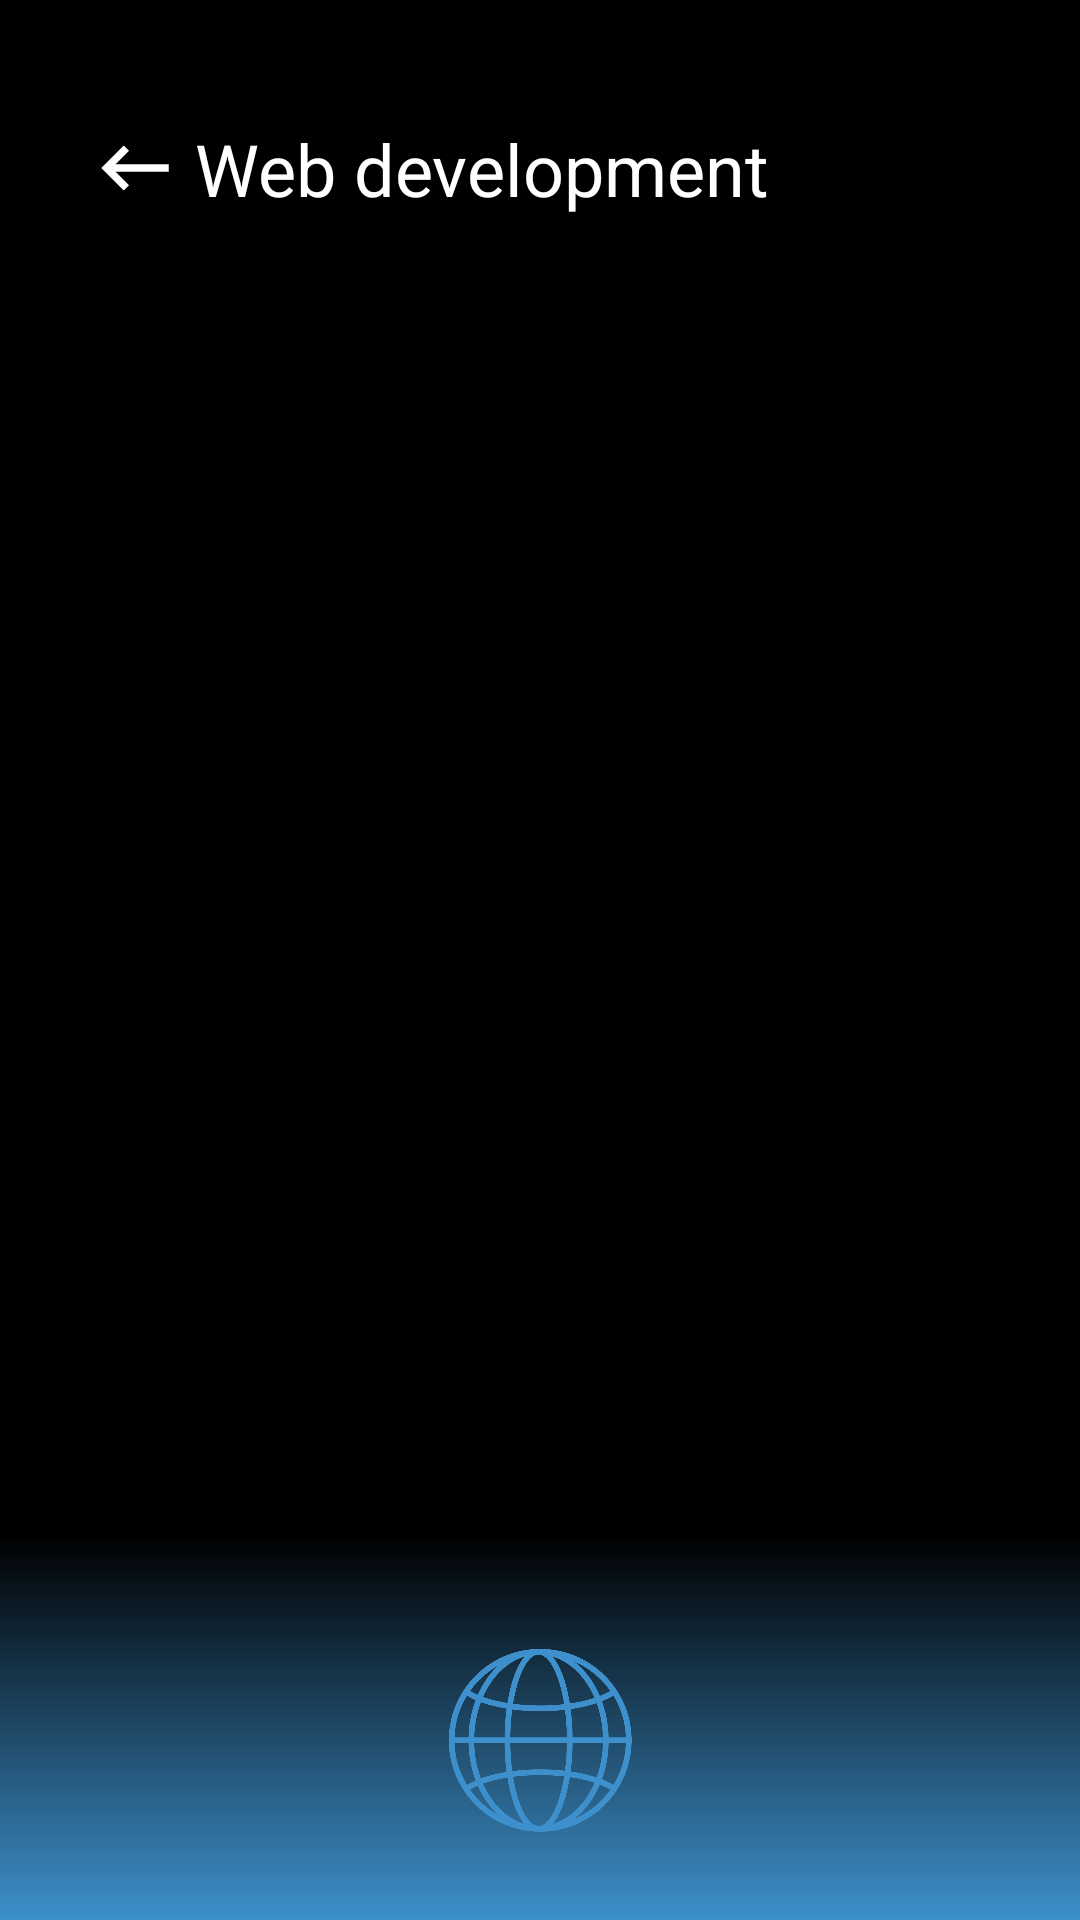

Point at icon controls on the screen. Image size 1080 × 1920, points as [x,y].
globe: [540,1740]
